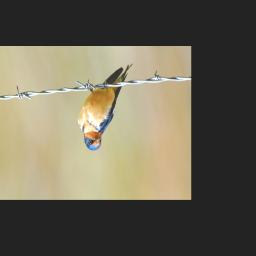Swallow: (77, 63, 133, 151)
